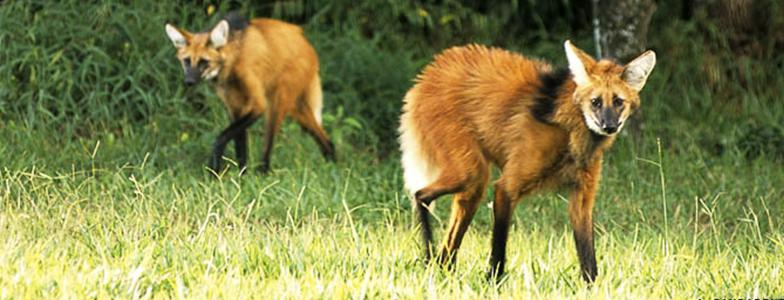LoboGuara: (384, 36, 660, 293), (159, 12, 347, 179)
